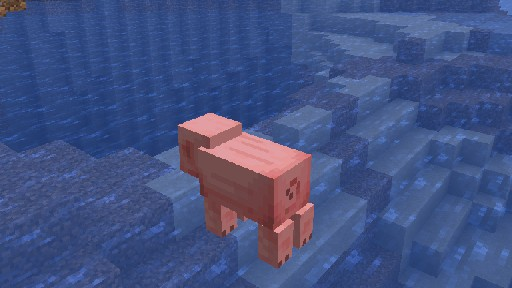pig: (176, 111, 314, 269)
